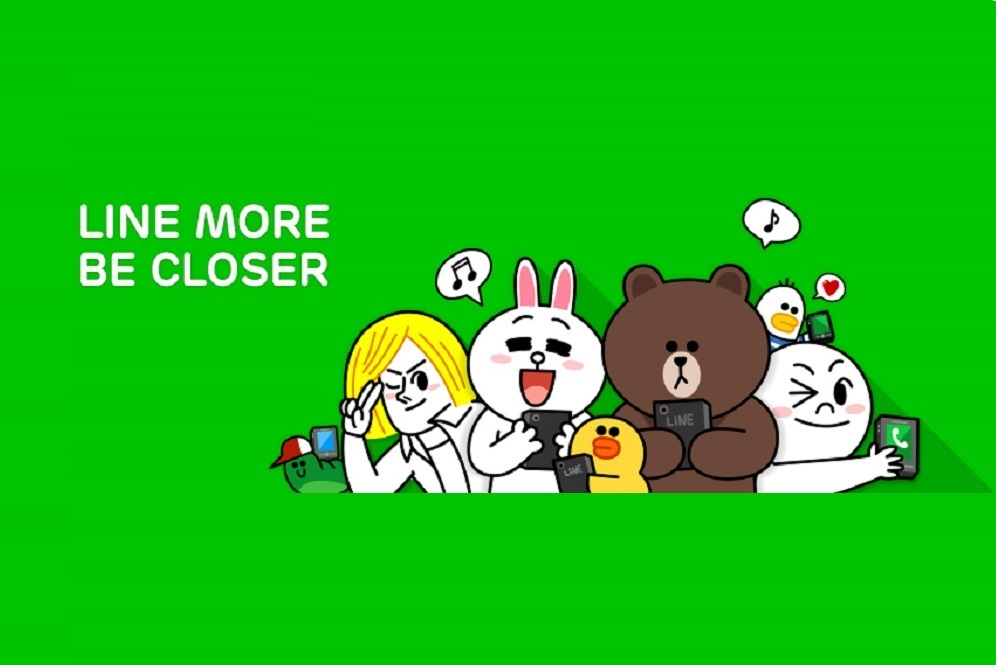line_brown: (594, 251, 776, 421)
